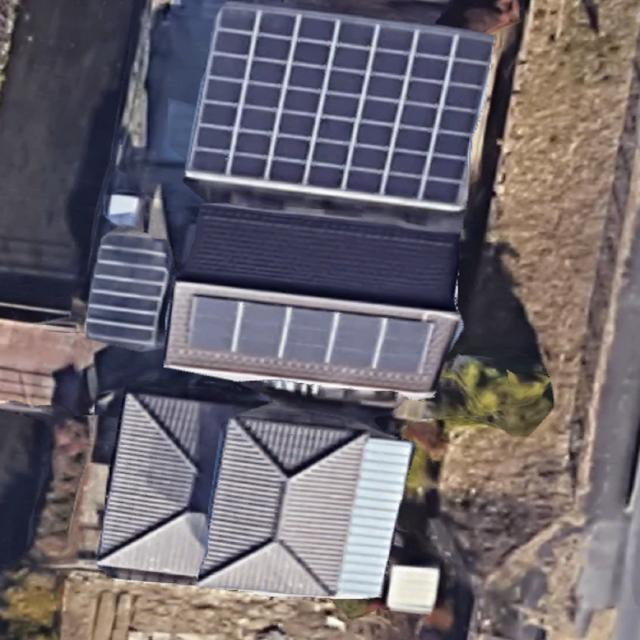Batiment: (98, 394, 411, 598), (187, 4, 493, 211), (166, 204, 459, 391), (87, 229, 171, 350)
